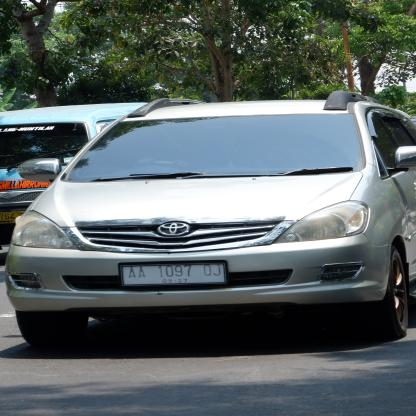Plat-Nomor: (115, 258, 230, 287)
